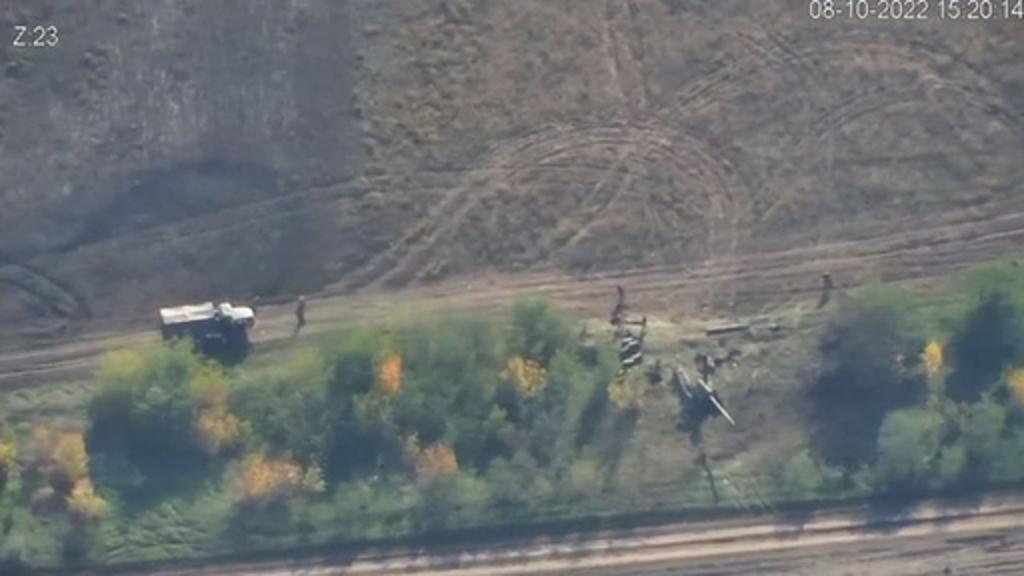ART: (670, 358, 744, 430)
TRUCK: (154, 292, 256, 356)
